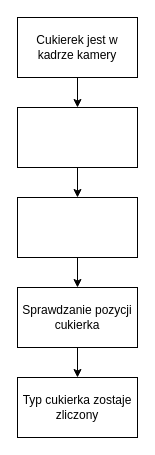
The diagram is 155 pixels wide and 455 high, and some of its shapes have lost their labels. Here are the shapes that lost their labels. From the top down, the centre of each, then its label:
(x=77, y=137): Sprawdzanie pola powierzchni cukierka
(x=77, y=227): Sprawdzanie koloru opakowania cukierka
